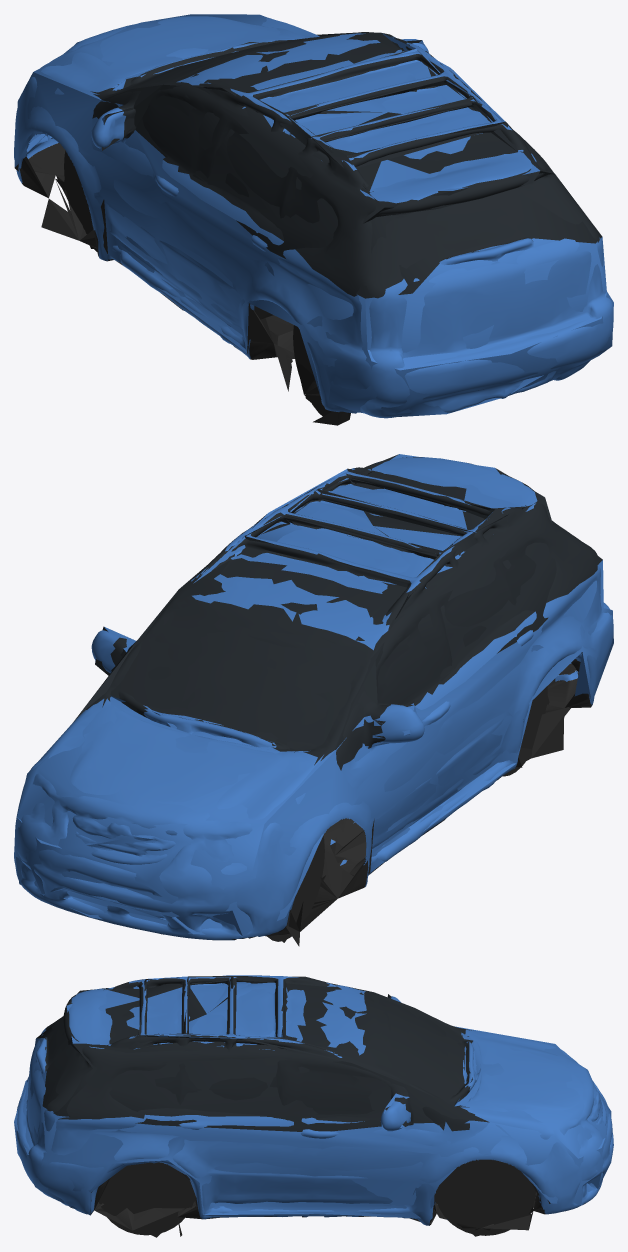
The model's file is subaru-tribeca.glb.
3 views of the same model, one above another, from view 1: azimuth 30°, elevation 25°; view 2: azimuth 150°, elevation 25°; view 3: azimuth 270°, elevation 25° (orthographic). The views are drawn at different scales.
Visible parts, largest first — view 1: body, far; view 2: body, far; view 3: body, far.
Part boxes in pixels (box(x1,y1,x2,y2)): body: box(14, 16, 613, 425); far: box(14, 14, 613, 421); body: box(14, 457, 613, 946); far: box(15, 454, 613, 942); body: box(16, 975, 613, 1236); far: box(14, 976, 613, 1237).
Bounding box in the file's own units: 2.34 × 1.77 × 4.86.
